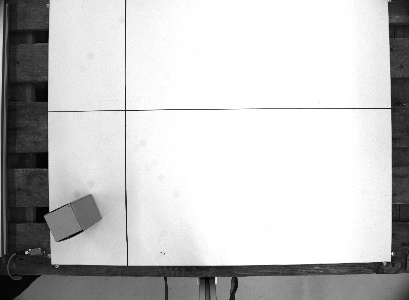b2: (41, 194, 103, 245)
